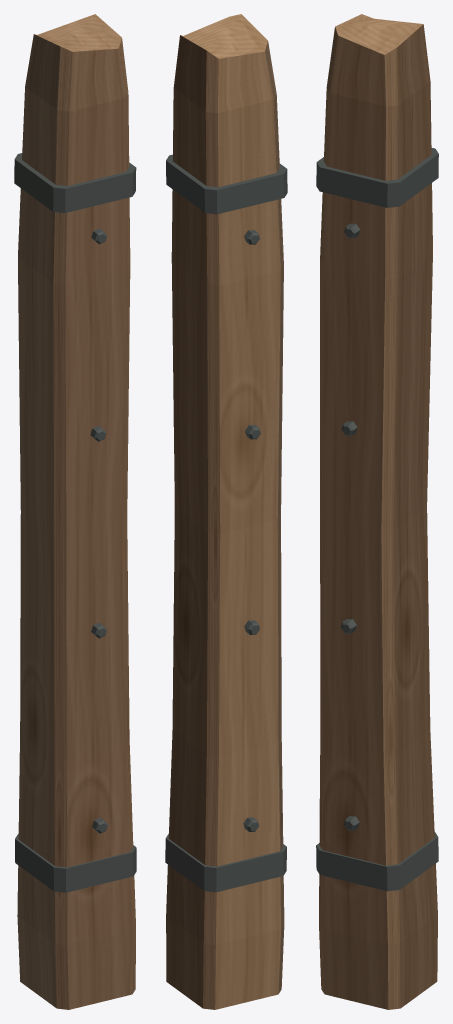
The model's file is fence_post_02.glb.
3 views of the same model, side by side, from view 1: azimuth 30°, elevation 25°; view 2: azimuth 210°, elevation 25°; view 3: azimuth 330°, elevation 25° (orthographic).
Visible parts, largest first — view 1: TileDecorationFencePost02; view 2: TileDecorationFencePost02; view 3: TileDecorationFencePost02.
Boxes of the visible parts, box(x1,y1,x2,y2) form: TileDecorationFencePost02: box(14, 14, 136, 1009); TileDecorationFencePost02: box(165, 14, 287, 1009); TileDecorationFencePost02: box(316, 14, 438, 1009).
Bounding box in the file's own units: 0.0866 × 0.95 × 0.1029.
2 materials, 1 textured.
